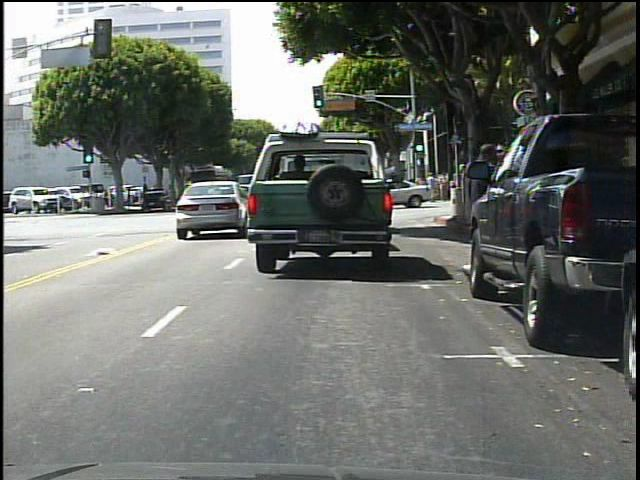person: (457, 143, 508, 278), (426, 170, 436, 187)
